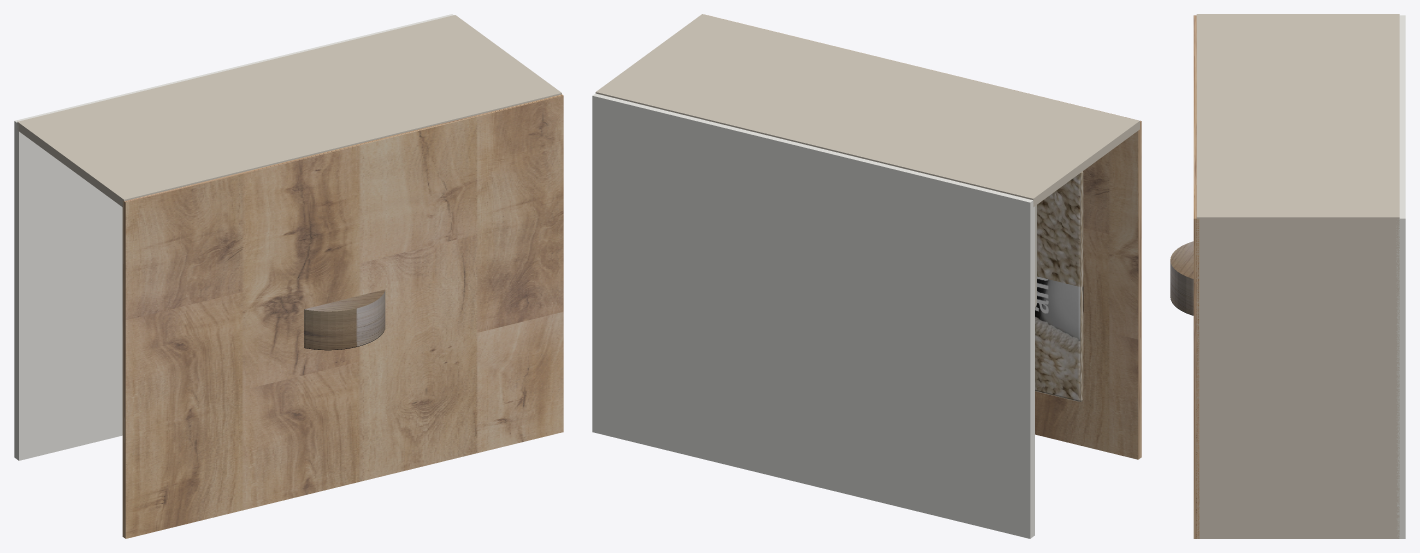
The model's file is Salon_Julia.glb.
3 renders of one model, left to right at view 1: azimuth 30°, elevation 25°; view 2: azimuth 150°, elevation 25°; view 3: azimuth 270°, elevation 25°, orthographic. The views are drawn at different scales.
Parts seen in each view (by area): view 1: Suelo, Pared TV, Techo, Mesa base; view 2: Techo, Pared TV, Suelo, Alfombra; view 3: Pared lateral, Pared TV, Techo, Suelo, Mesa base.
Part boxes in pixels (box(x1,y1,x2,y2)): Suelo: box(122, 94, 563, 538); Pared TV: box(17, 15, 561, 206); Techo: box(14, 14, 453, 460); Mesa base: box(304, 289, 385, 350); Techo: box(592, 93, 1034, 538); Pared TV: box(595, 14, 1139, 206); Suelo: box(708, 15, 1141, 459); Alfombra: box(1035, 171, 1083, 401); Pared lateral: box(1196, 218, 1399, 538); Pared TV: box(1196, 14, 1399, 225); Techo: box(1396, 15, 1405, 538); Suelo: box(1193, 15, 1199, 538); Mesa base: box(1170, 241, 1193, 315).
Size of the model in its own units: 6.4 by 4.72 by 3.13.
12 materials, 4 textured.
